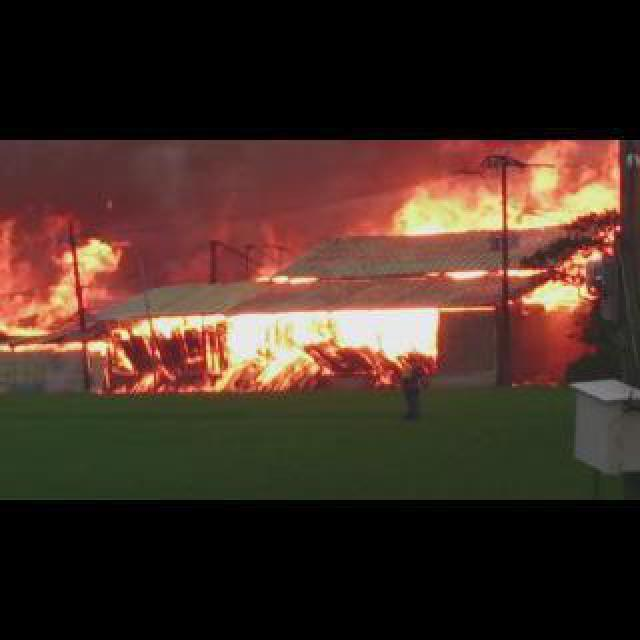Fire: (388, 142, 618, 234), (226, 306, 442, 396), (2, 222, 124, 338), (112, 312, 224, 396), (508, 254, 602, 312), (2, 344, 104, 372), (424, 266, 486, 278), (258, 272, 318, 284)
